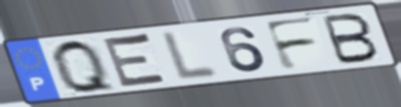6: (218, 26, 268, 73)
B: (320, 12, 382, 66)
E: (101, 31, 172, 90)
F: (261, 14, 321, 72)
L: (160, 29, 222, 83)
Q: (49, 38, 120, 95)
